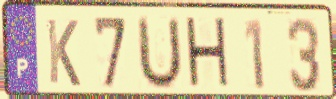1: (243, 17, 267, 92)
3: (285, 14, 321, 94)
7: (92, 14, 129, 91)
H: (182, 15, 232, 93)
K: (44, 16, 82, 89)
U: (136, 14, 184, 93)
